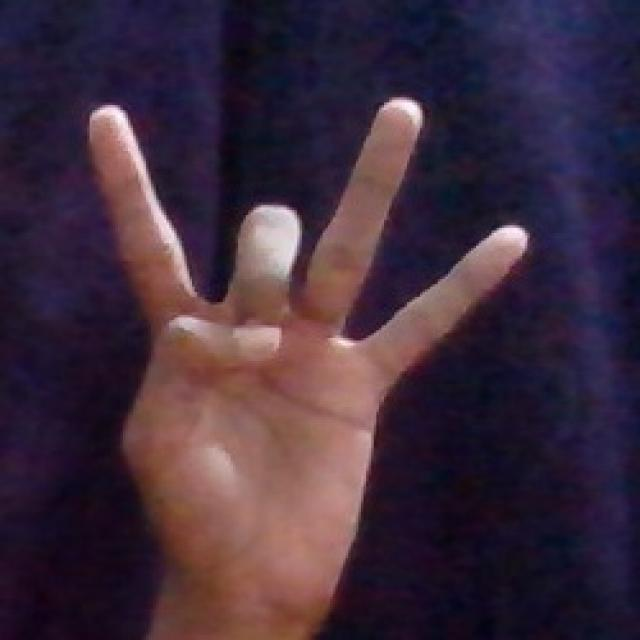Numeric-8: (90, 82, 536, 608)
